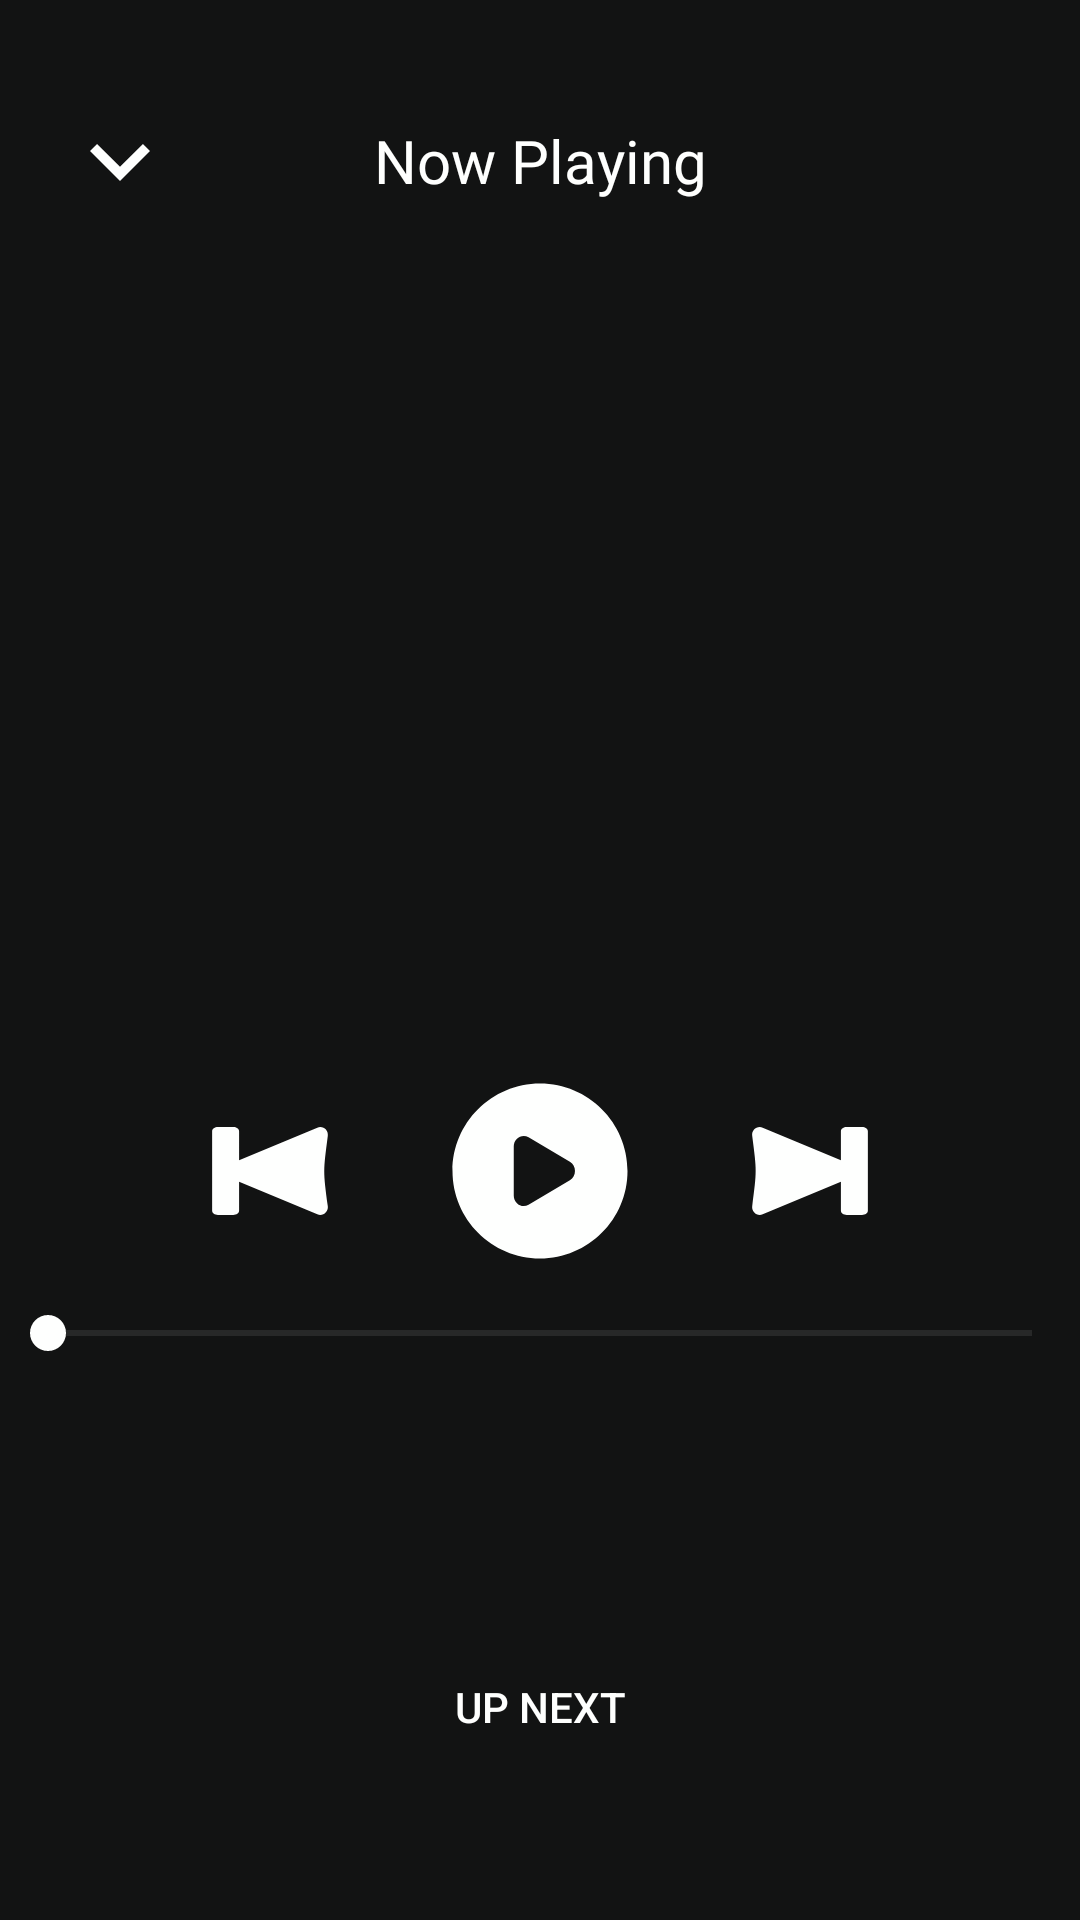

Icons on this 1080x1920 Android screen, each with the point to tap as (x=x, y=y):
expand: (x=120, y=162)
play in circle: (x=540, y=1171)
skip next: (x=810, y=1171)
skip previous: (x=270, y=1171)
